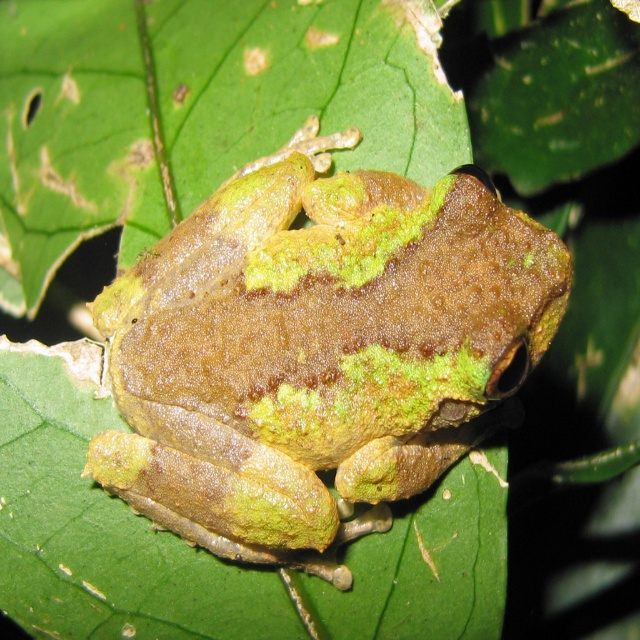Frog: (81, 113, 572, 591)
